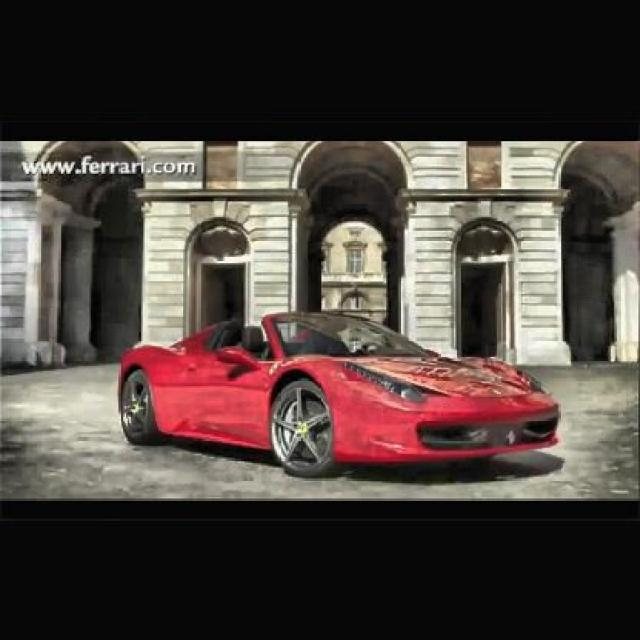red: (125, 310, 561, 475)
